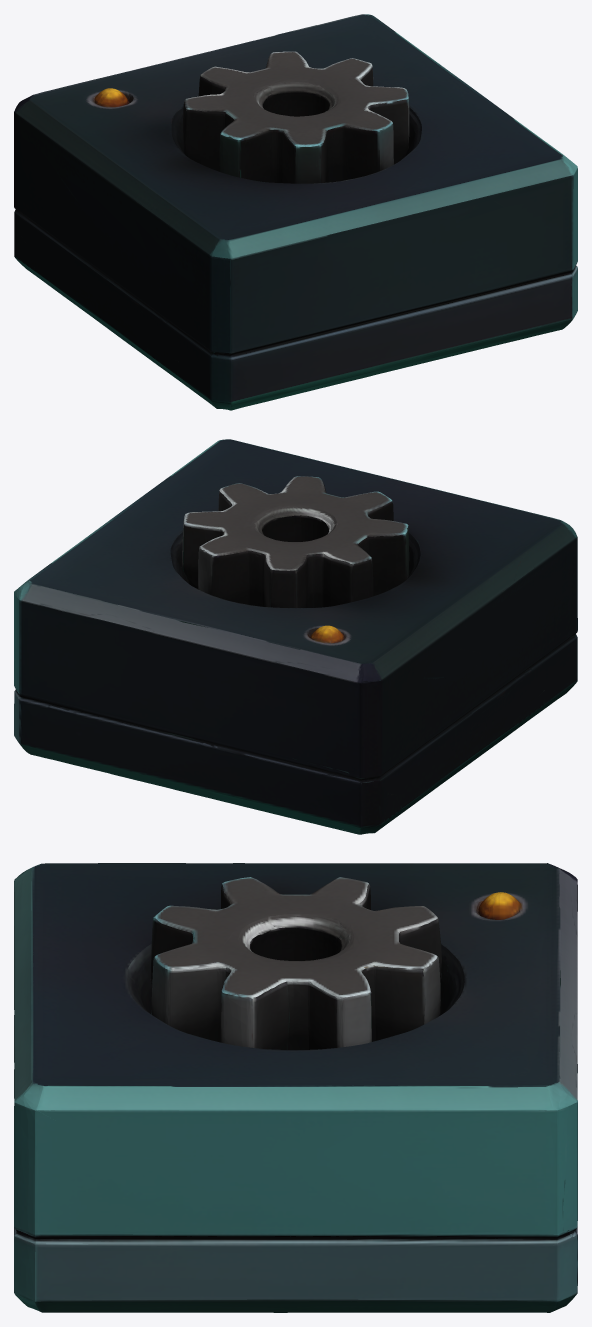
The model's file is robo-3d-2.glb.
3 renders of one model, top to bottom at view 1: azimuth 30°, elevation 25°; view 2: azimuth 150°, elevation 25°; view 3: azimuth 270°, elevation 25°, orthographic. The views are drawn at different scales.
Parts seen in each view (by area): view 1: world; view 2: world; view 3: world.
Boxes of the visible parts, x1=… form: world: x1=14, y1=14, x2=577, y2=410; world: x1=14, y1=439, x2=577, y2=834; world: x1=14, y1=863, x2=577, y2=1312.
Bounding box in the file's own units: 1 × 0.5221 × 1.
1 material, 1 textured.
